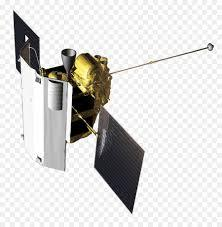antenna: (207, 42, 214, 52)
body: (16, 44, 111, 183)
solar: (92, 102, 147, 216), (11, 7, 43, 81)
thruster: (59, 46, 78, 76)
